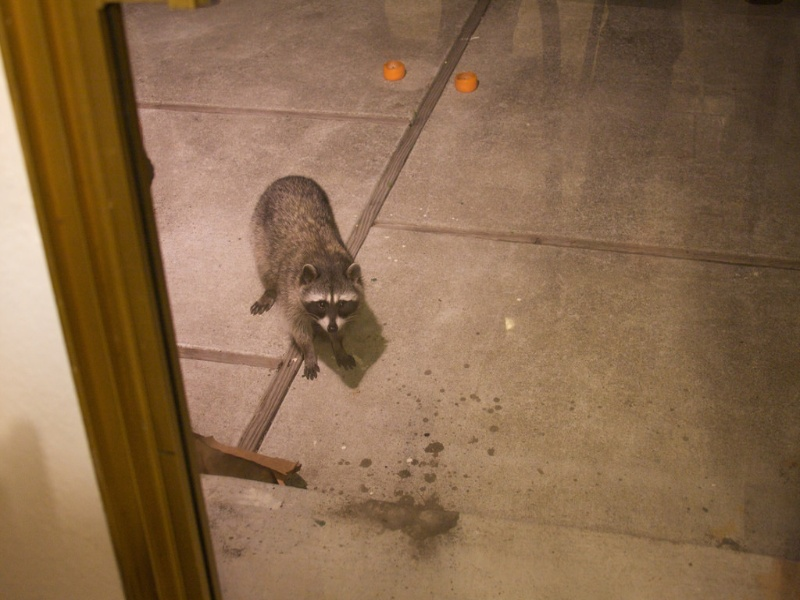raccoon: (242, 175, 368, 385)
